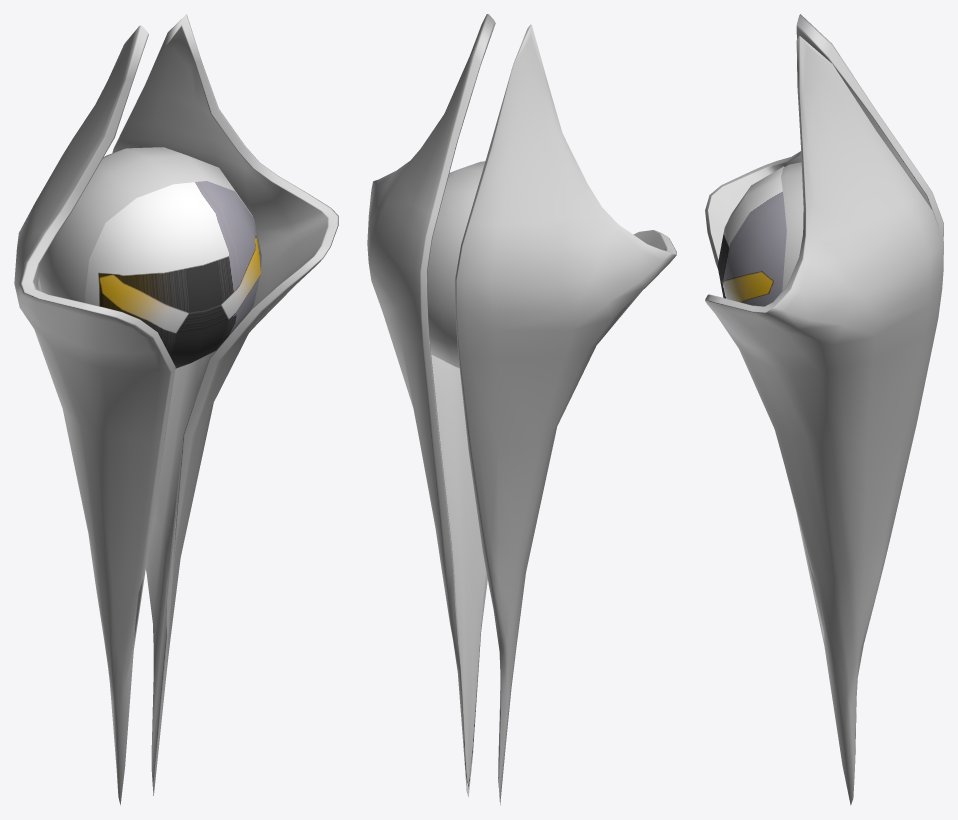
The model's file is EnemyOne.fbx.
The picture shows the model from 3 angles, left to right: view 1: azimuth 30°, elevation 25°; view 2: azimuth 150°, elevation 25°; view 3: azimuth 270°, elevation 25°; orthographic projection. The views are drawn at different scales.
Visible parts, largest first — view 1: Body, face; view 2: Body; view 3: Body, face.
Boxes of the visible parts, x1=… form: Body: x1=14, y1=14, x2=338, y2=805; face: x1=84, y1=181, x2=261, y2=368; Body: x1=367, y1=14, x2=676, y2=805; Body: x1=705, y1=14, x2=943, y2=805; face: x1=717, y1=166, x2=786, y2=306.
Size of the model in its own units: 2.14 by 5.2 by 1.46.
